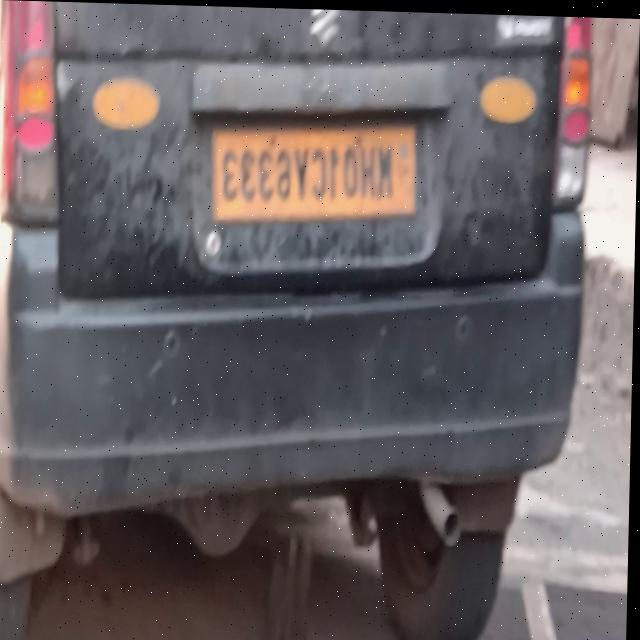plate: (211, 112, 421, 230)
